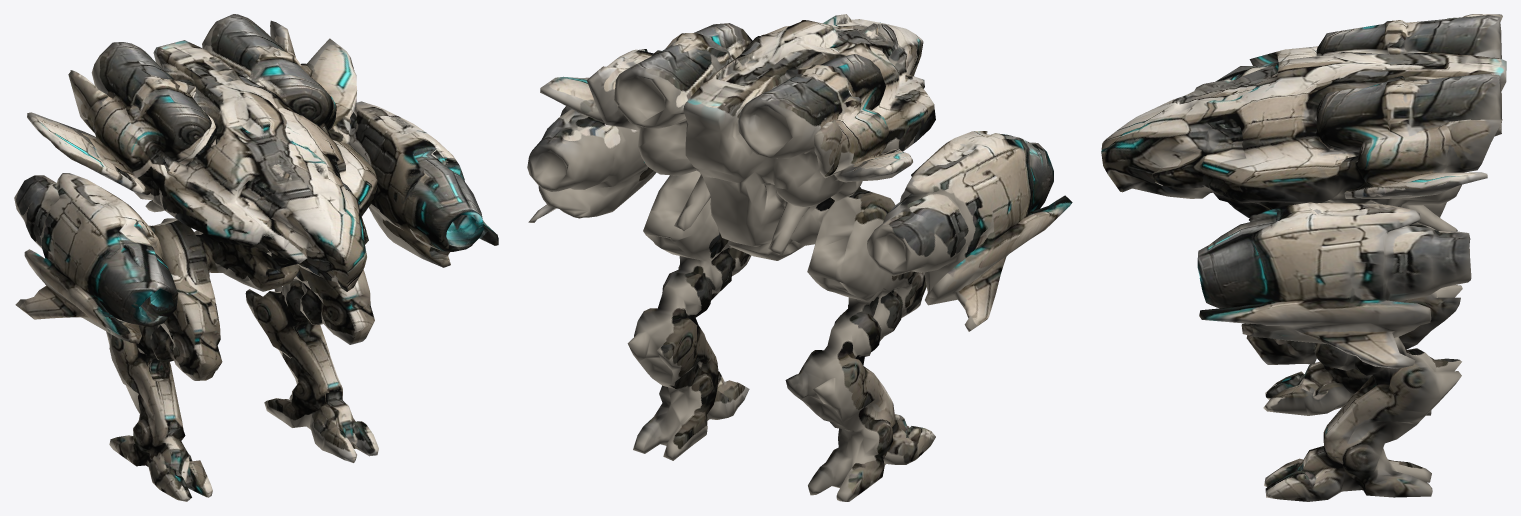
The model's file is shrike_lod1.glb.
The picture shows the model from 3 angles, left to right: view 1: azimuth 30°, elevation 25°; view 2: azimuth 150°, elevation 25°; view 3: azimuth 270°, elevation 25°; orthographic projection. The views are drawn at different scales.
Parts seen in each view (by area): view 1: geometry_0; view 2: geometry_0; view 3: geometry_0.
Part boxes in pixels (box(x1,y1,x2,y2)): geometry_0: box(14, 14, 498, 501); geometry_0: box(527, 14, 1072, 501); geometry_0: box(1101, 14, 1506, 501).
Bounding box in the file's own units: 2 × 1.8 × 1.64.
Materials: 1 (1 with a texture image).
